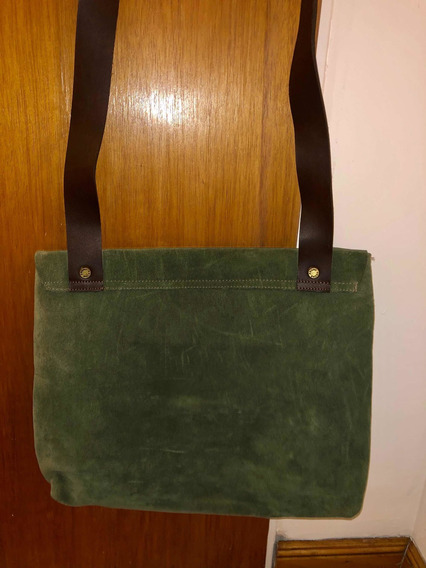cartera: (35, 1, 375, 519)
